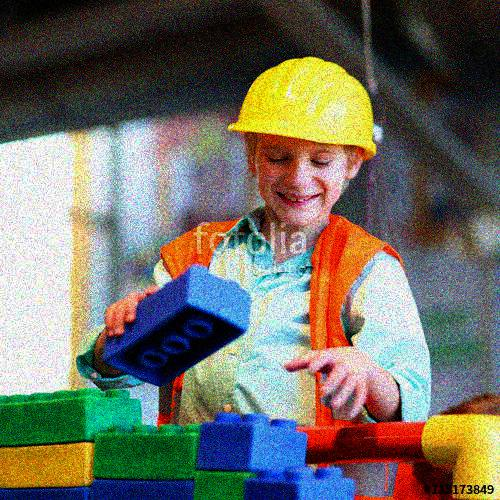helmet: (226, 51, 380, 225)
